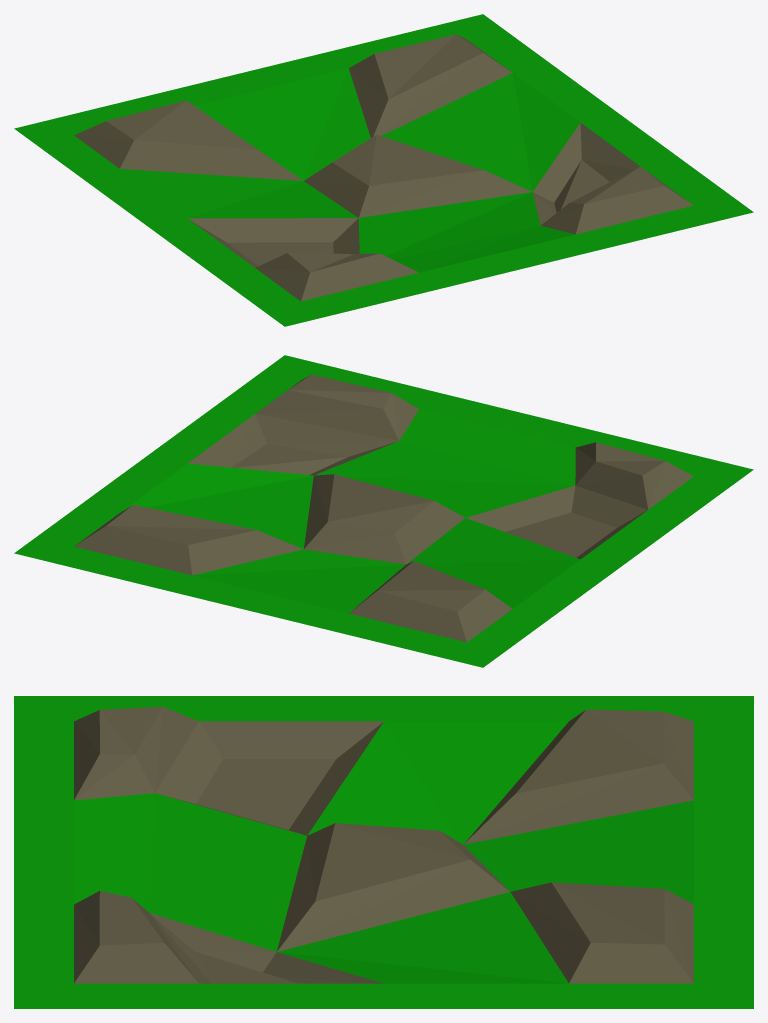
File: Ground2.FBX
The picture shows the model from 3 angles, top to bottom: view 1: azimuth 30°, elevation 25°; view 2: azimuth 150°, elevation 25°; view 3: azimuth 270°, elevation 25°; orthographic projection. The views are drawn at different scales.
Visible parts, largest first — view 1: Ground2; view 2: Ground2; view 3: Ground2.
Boxes of the visible parts, left/top/right/bottom form: Ground2: left=14, top=14, right=753, bottom=326; Ground2: left=14, top=355, right=753, bottom=667; Ground2: left=14, top=696, right=753, bottom=1008.
Size of the model in its own units: 157 by 15.89 by 157.
1 material, 1 textured.
